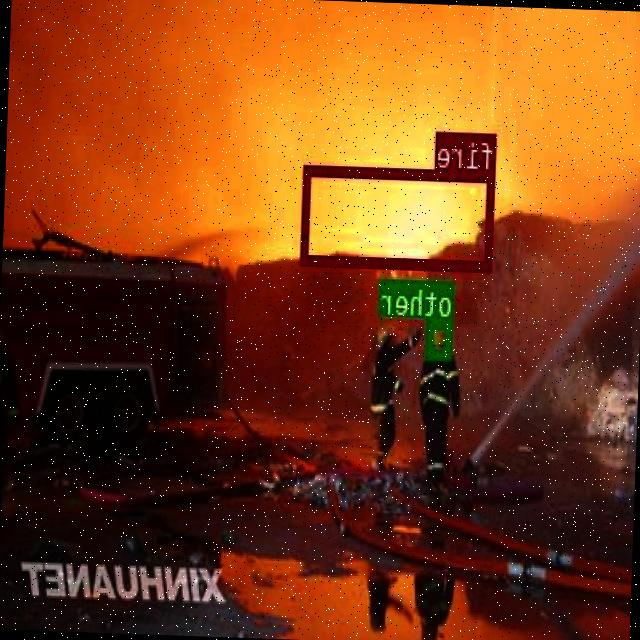fire: (302, 162, 495, 269)
